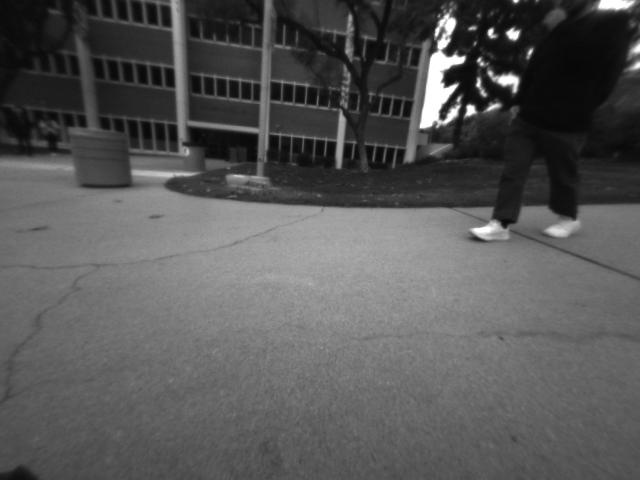trashcan: (63, 118, 138, 196), (178, 137, 208, 174)
